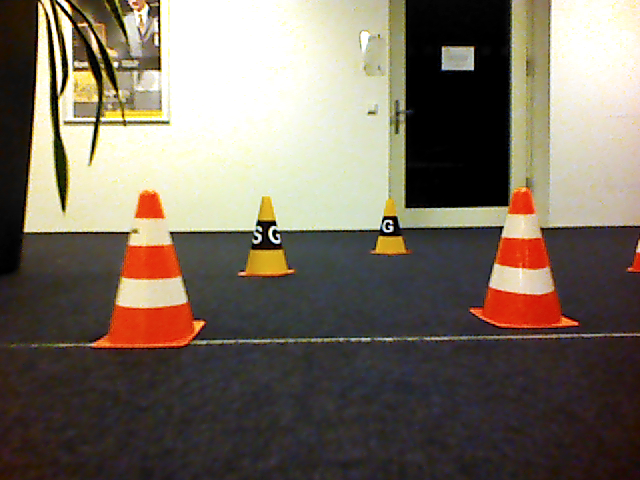orangeconesmall: (87, 187, 207, 352), (467, 185, 582, 332)
yellowcone: (236, 195, 297, 279), (368, 198, 414, 255)
